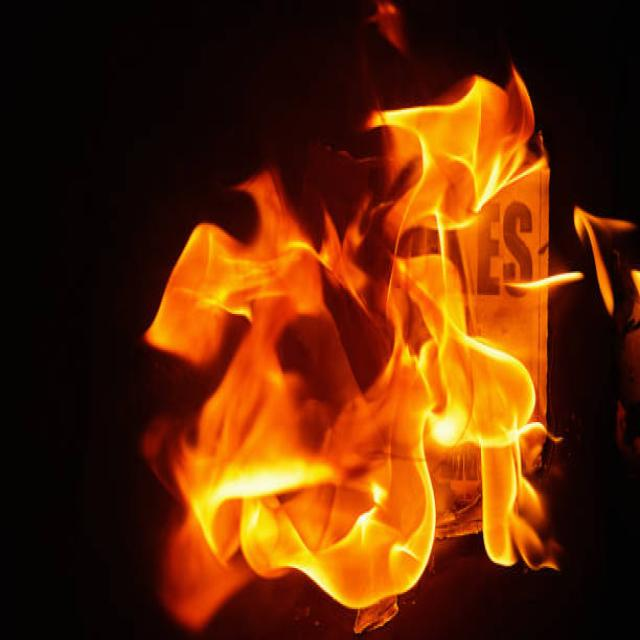fire: (142, 60, 562, 631), (574, 206, 636, 315), (363, 1, 409, 60)
